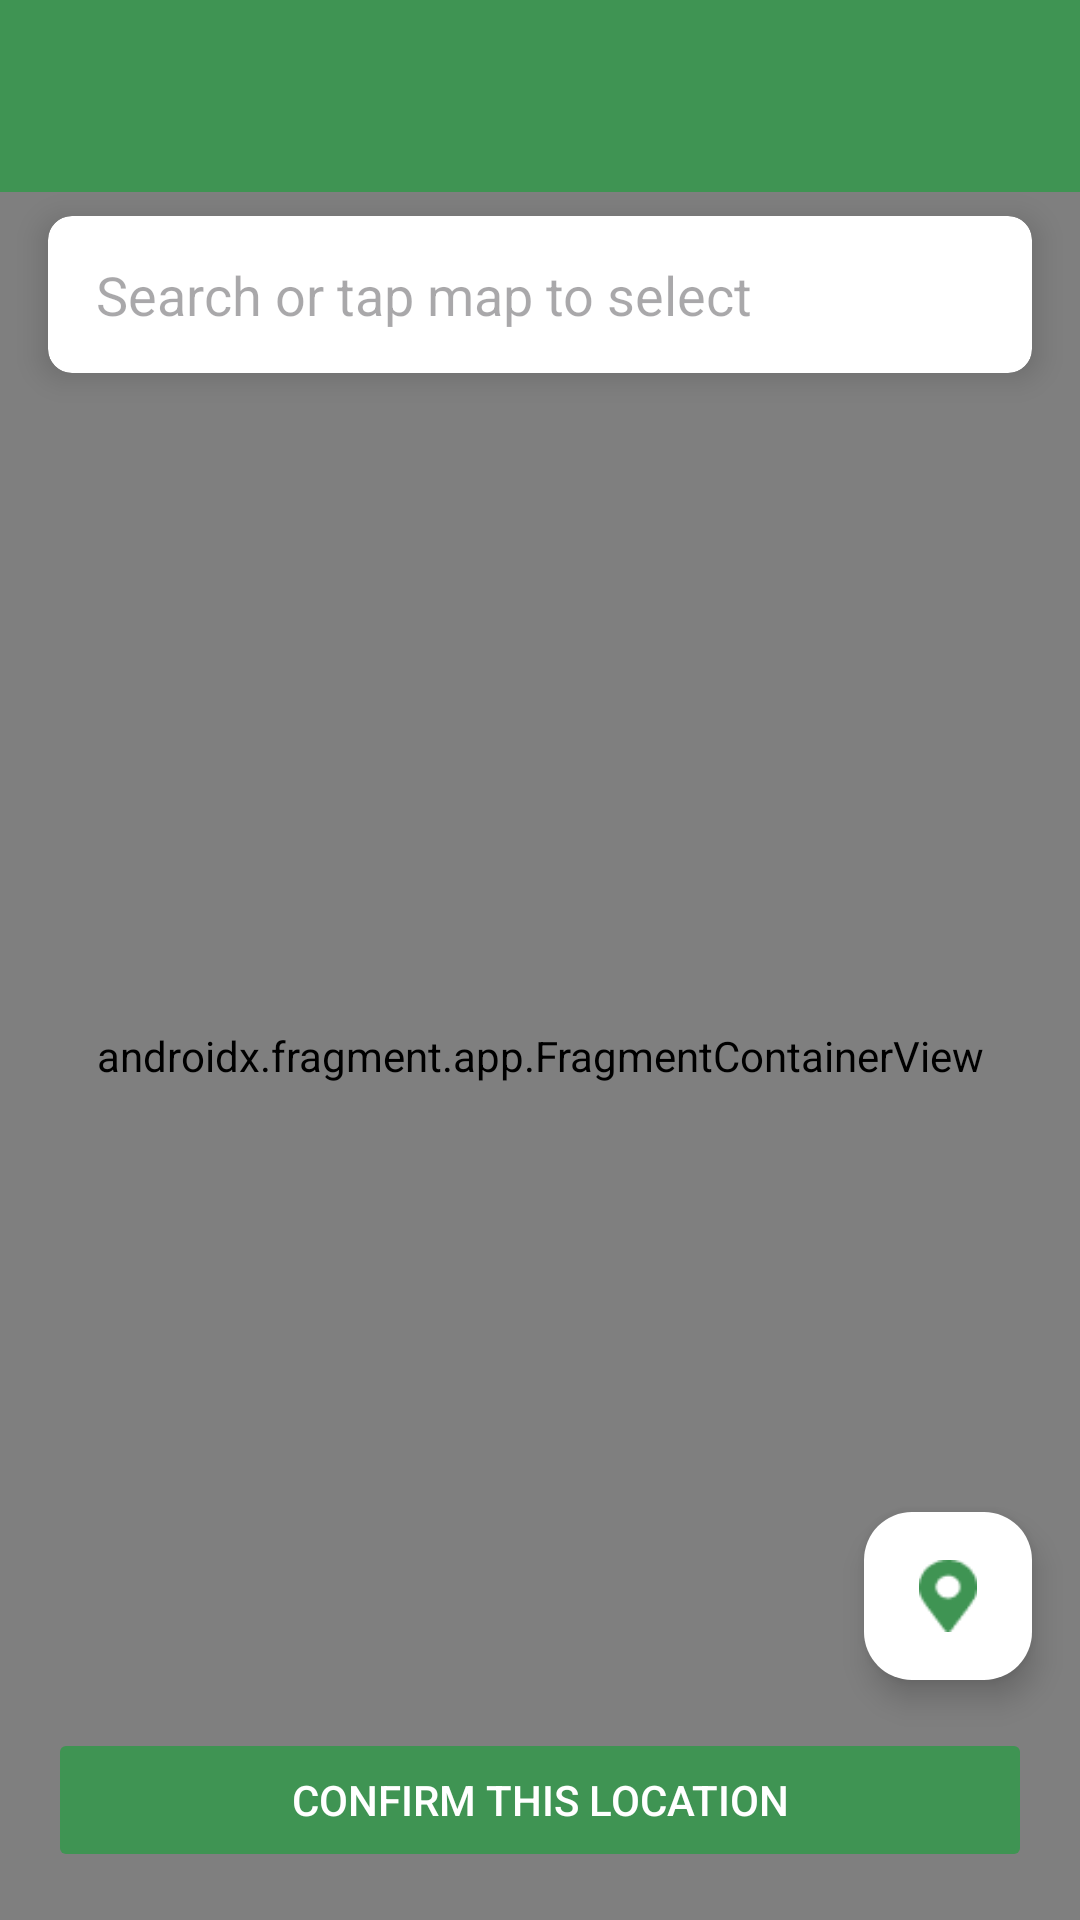

Icons on this 1080 × 1920 Android screen, each with the point to tap as (x=x, y=y):
Go to my current location: (x=948, y=1596)
